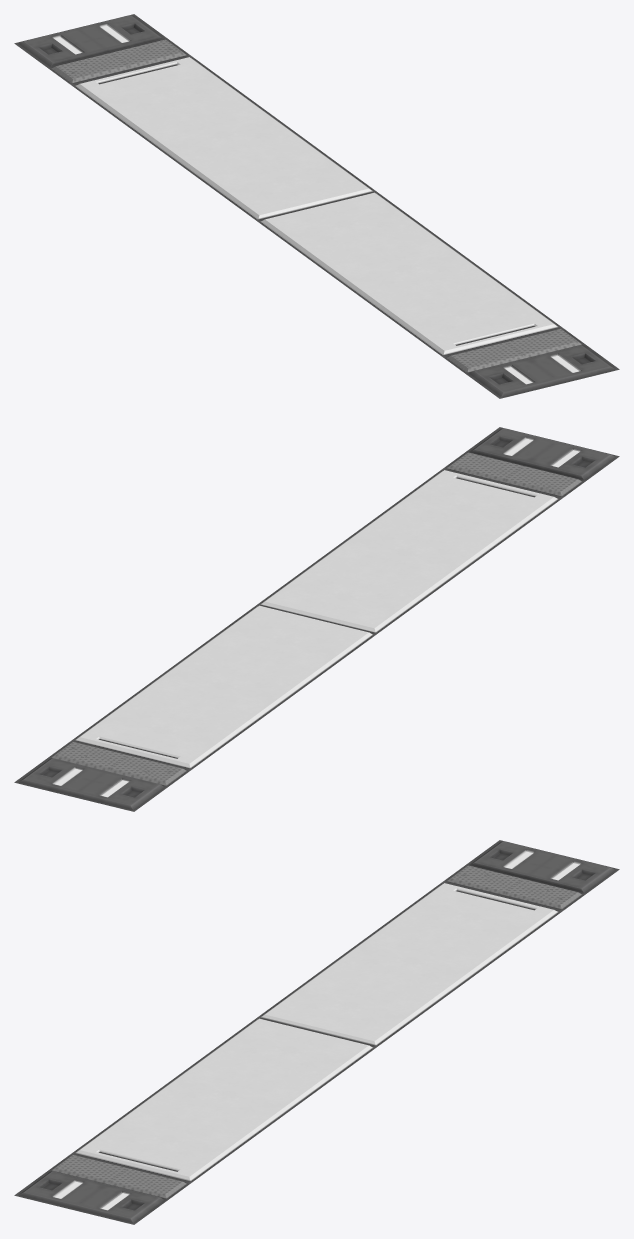
Rendered from SM_MFloor02-350x50-1.FBX.
3 views of the same model, one above another, from view 1: azimuth 30°, elevation 25°; view 2: azimuth 150°, elevation 25°; view 3: azimuth 330°, elevation 25° (orthographic).
Parts seen in each view (by area): view 1: SM_MFloor02-350x50-1; view 2: SM_MFloor02-350x50-1; view 3: SM_MFloor02-350x50-1.
Part boxes in pixels (x1,y1,x2,y2): SM_MFloor02-350x50-1: (14,14,619,398); SM_MFloor02-350x50-1: (14,427,619,811); SM_MFloor02-350x50-1: (14,840,619,1224).
Size of what is drawn, in the model's own units: 50 by 350 by 1.
